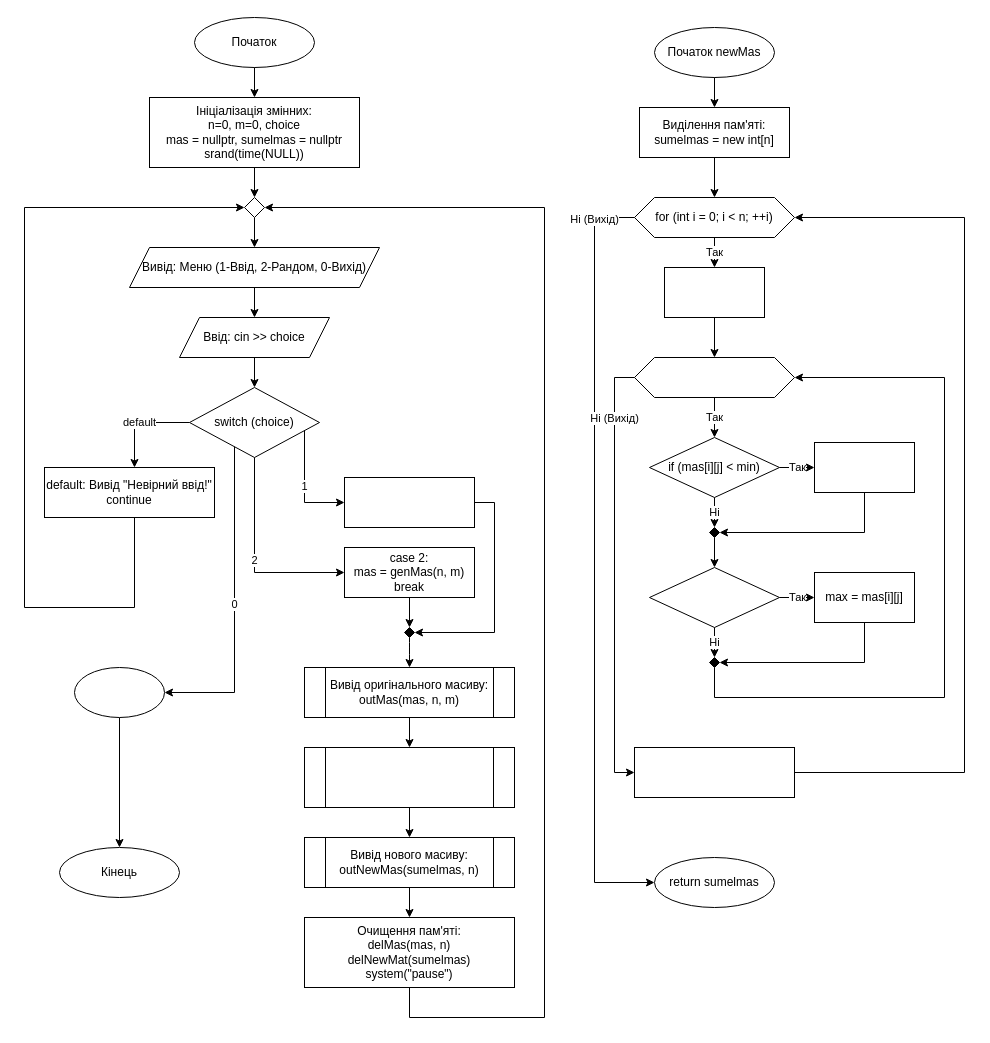
Image size: 990x1043. Some labels were removed from this diagram. Each missing label, with the box of its shape:
case 1: mas = inpMas(n, m) break: (344, 476, 474, 528)
for (int j = 0; j < m; ++j): (634, 356, 794, 398)
if (mas[i][j] > max): (648, 566, 780, 628)
min = inf max = -inf: (664, 266, 764, 318)
min = mas[i][j]: (814, 442, 914, 492)
return 0: (74, 666, 164, 718)
sumelmas[i] = min + max: (634, 746, 794, 798)
Виклик логіки: sumelmas = newMas(mas, n, m): (304, 746, 514, 808)
